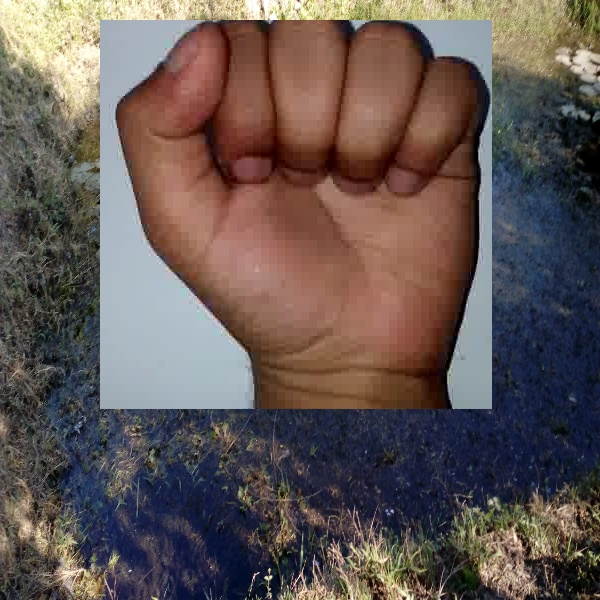A: (100, 20, 492, 409)
